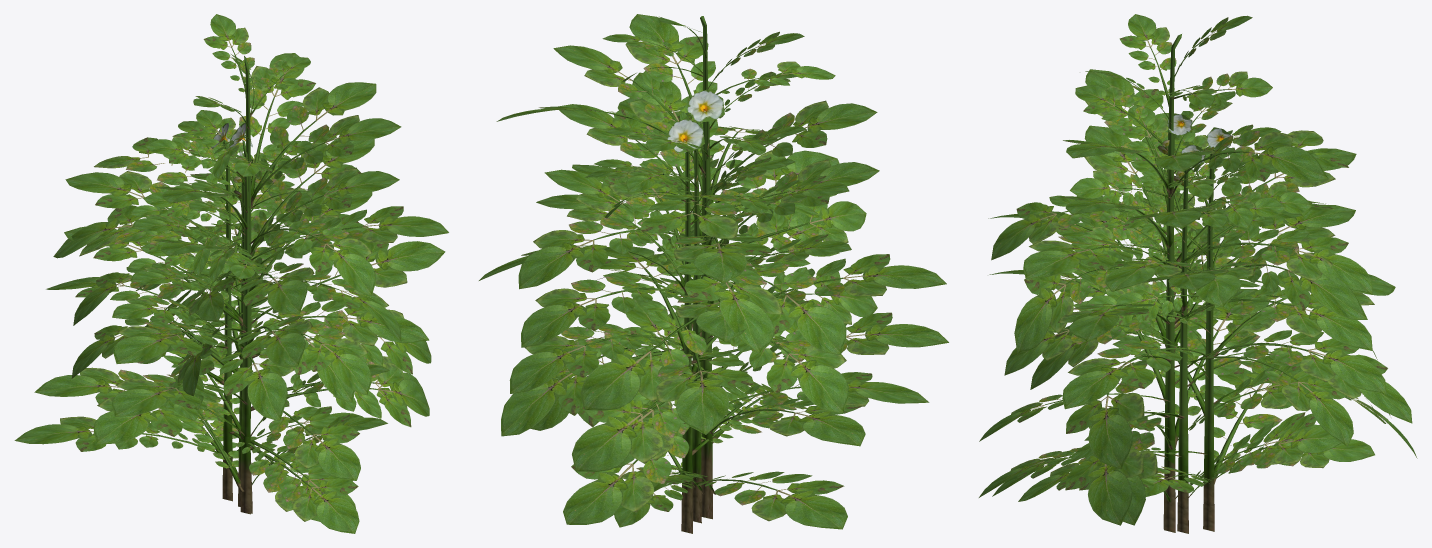
File: potato.glb
The picture shows the model from 3 angles, left to right: view 1: azimuth 30°, elevation 25°; view 2: azimuth 150°, elevation 25°; view 3: azimuth 270°, elevation 25°; orthographic projection. The views are drawn at different scales.
Parts seen in each view (by area): view 1: plant_03, plant_01, plant_04, plant_02; view 2: plant_03, plant_01, plant_04, plant_02; view 3: plant_03, plant_04, plant_01, plant_02.
Boxes of the visible parts, x1,y1,x2,y2 form: plant_03: [34, 14, 448, 513]; plant_01: [53, 110, 445, 533]; plant_04: [14, 121, 429, 521]; plant_02: [140, 135, 424, 509]; plant_03: [496, 14, 946, 518]; plant_01: [521, 72, 948, 519]; plant_04: [479, 118, 929, 533]; plant_02: [509, 149, 797, 523]; plant_03: [979, 14, 1377, 532]; plant_04: [1018, 127, 1417, 531]; plant_01: [979, 104, 1377, 528]; plant_02: [992, 134, 1390, 533].
Bounding box in the file's own units: 0.1694 × 0.2237 × 0.1731.
1 material, 1 textured.
